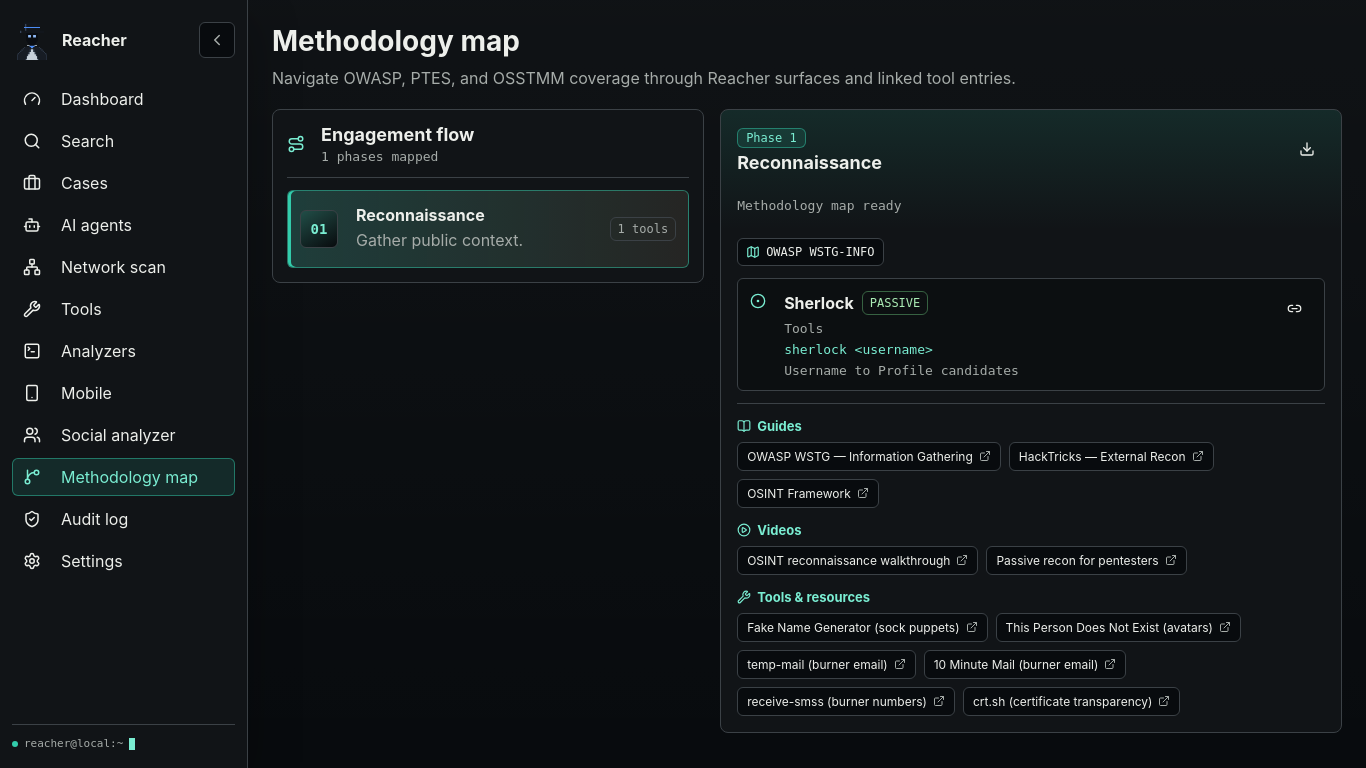
Test case: methodology tool links navigate into the recommended tool showcase with fake catalog data
Click the button named "Open Sherlock".
click(1294, 309)  # box [1276,291,1312,327]
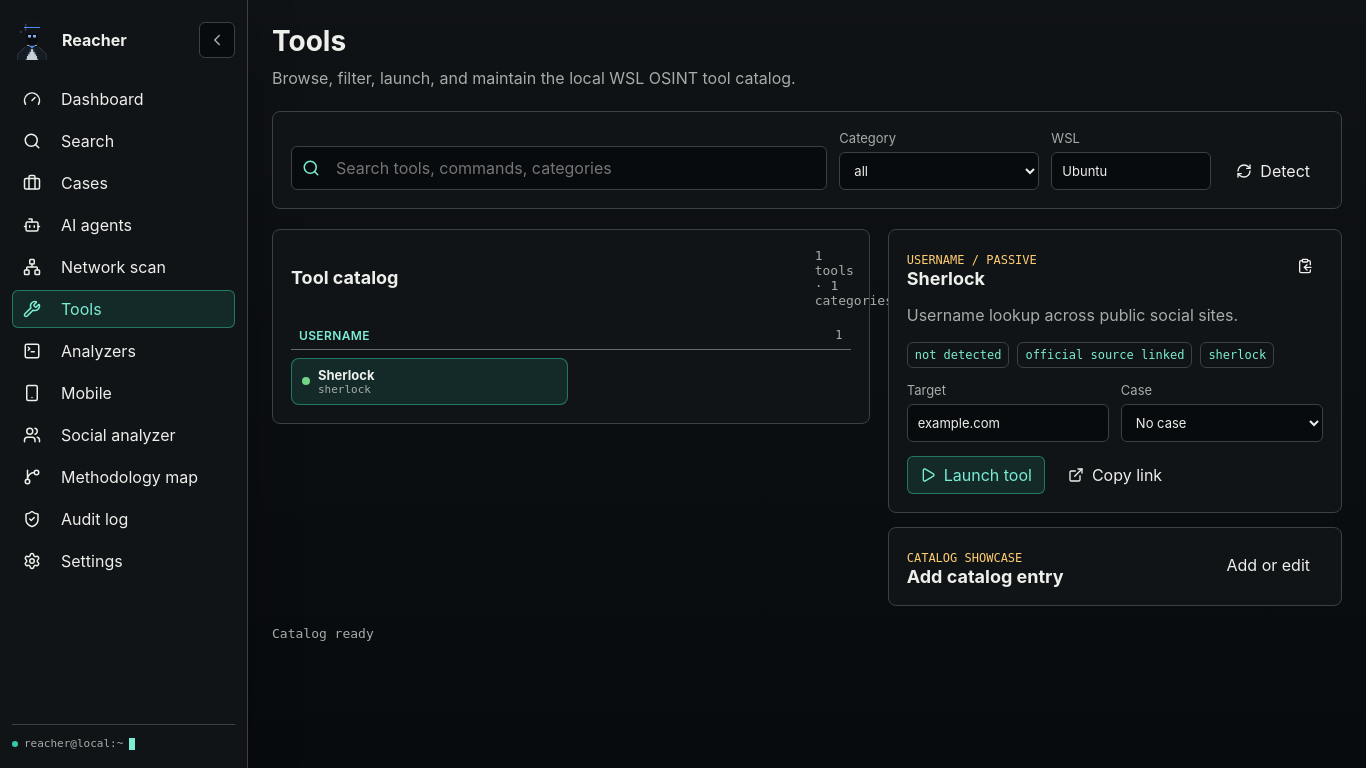
Expected: the heading "Tools" is shown, [272,24,346,58]
Result: the heading "Sherlock" is shown at [907,268,985,289]
